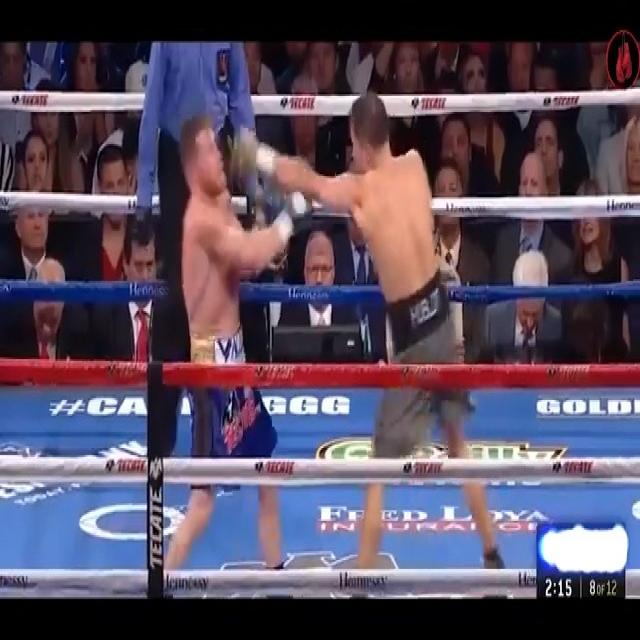Jab: (210, 97, 416, 364)
